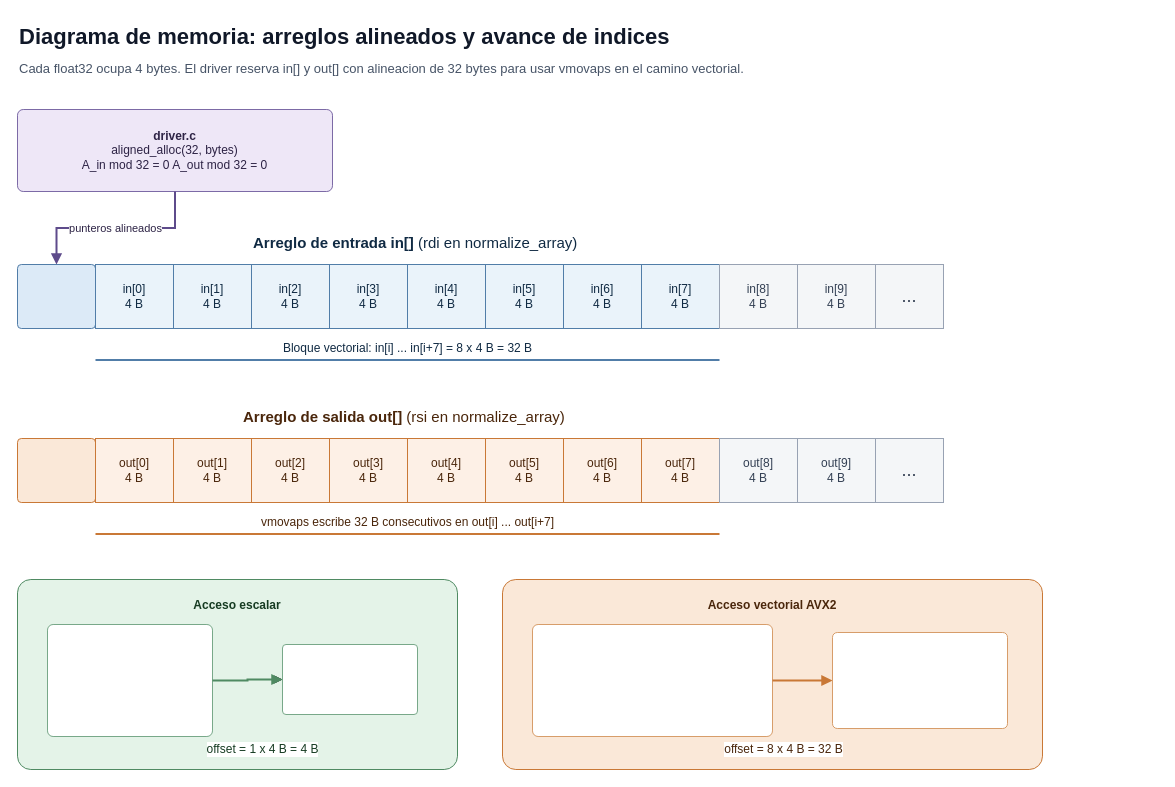
Some shapes in this 1175 by 787 pixel diagram are drawn without their labels. The shapes that lost their labels are listed below. From the top down, each one's centre as x and y in pixels, then its label:
At (56,296): "A_in 32 B".
At (56,470): "A_out 32 B".
At (129,680): "[rdi + rax*4] [rsi + rax*4] rax = i i += 1".
At (350,679): "Siguiente float32".
At (652,680): "vmovaps ymm12, [rdi + rax*4] vmovaps [rsi + rax*4], ymm12 rax = i, i += 8".
At (920,680): "Siguiente bloque 8 float32 / 32 B A + (i + 8) * 4".
